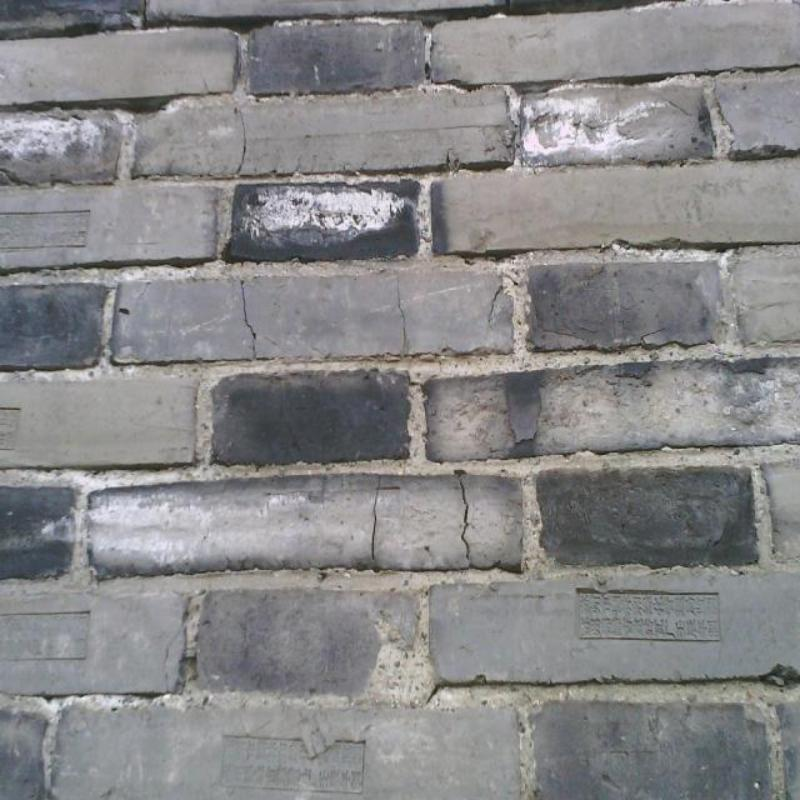pothole: (241, 281, 257, 359), (459, 479, 470, 560), (235, 107, 247, 175), (371, 476, 380, 561), (397, 280, 407, 348), (488, 285, 503, 322), (640, 328, 664, 346), (426, 684, 441, 704)
